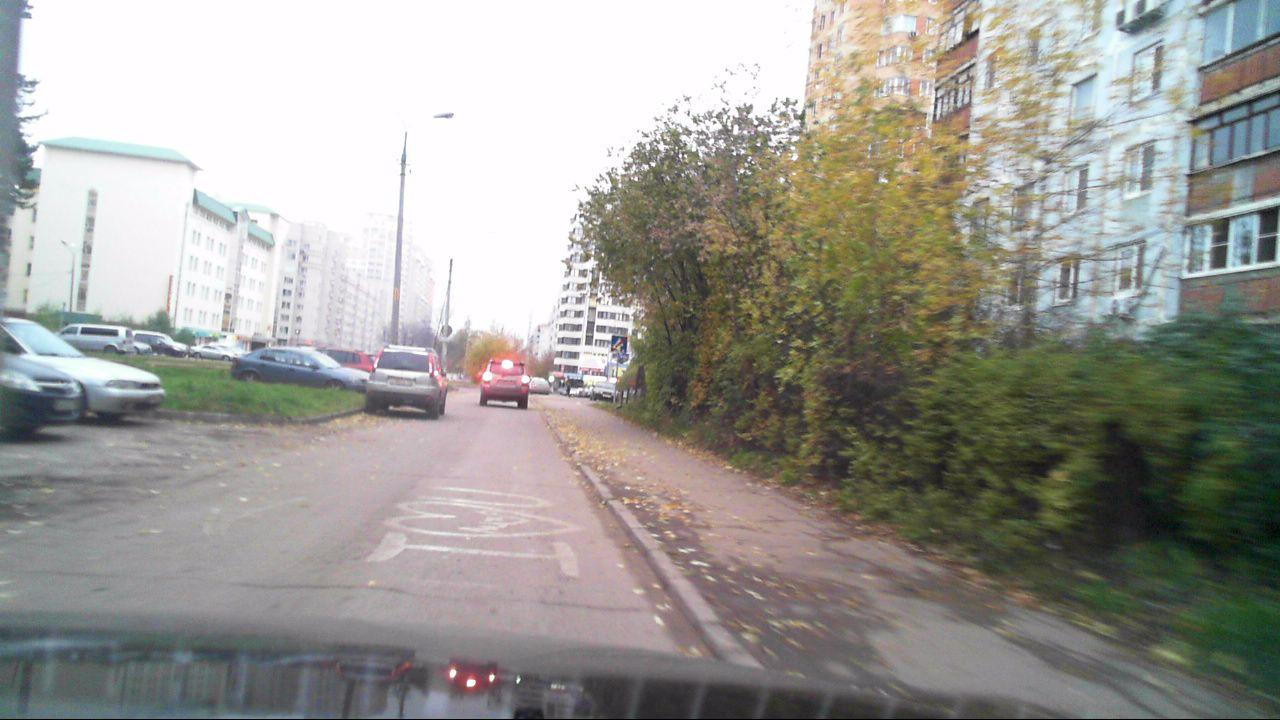5_6: (611, 336, 627, 353)
